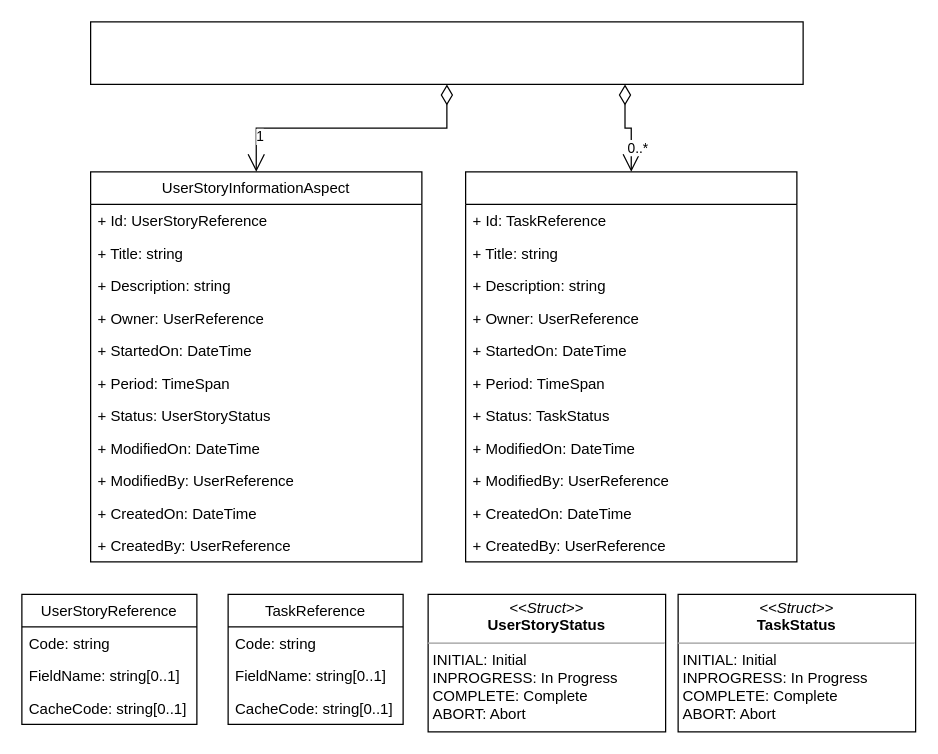
Image size: 938x754. Some labels were removed from this diagram. The box of each missing label's shape, as (x1, y1, x2, y2) in pixels:
TaskAspect: (464, 171, 797, 562)
UserStory: (89, 21, 803, 84)
